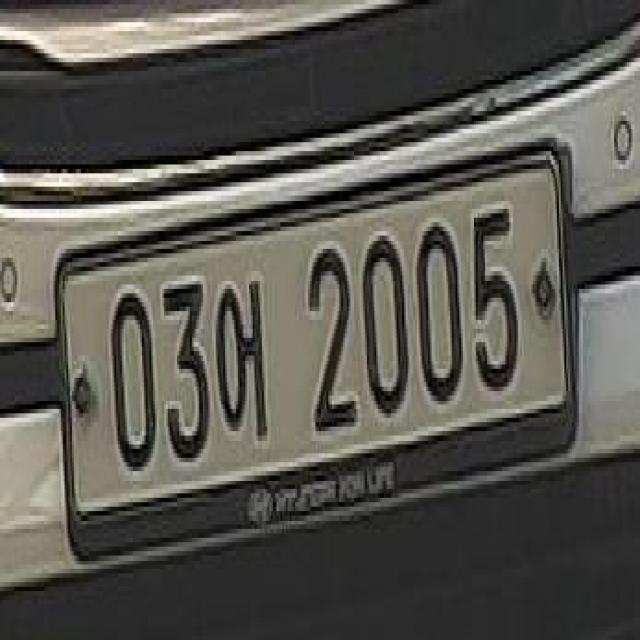illegal_plate: (58, 142, 576, 570)
